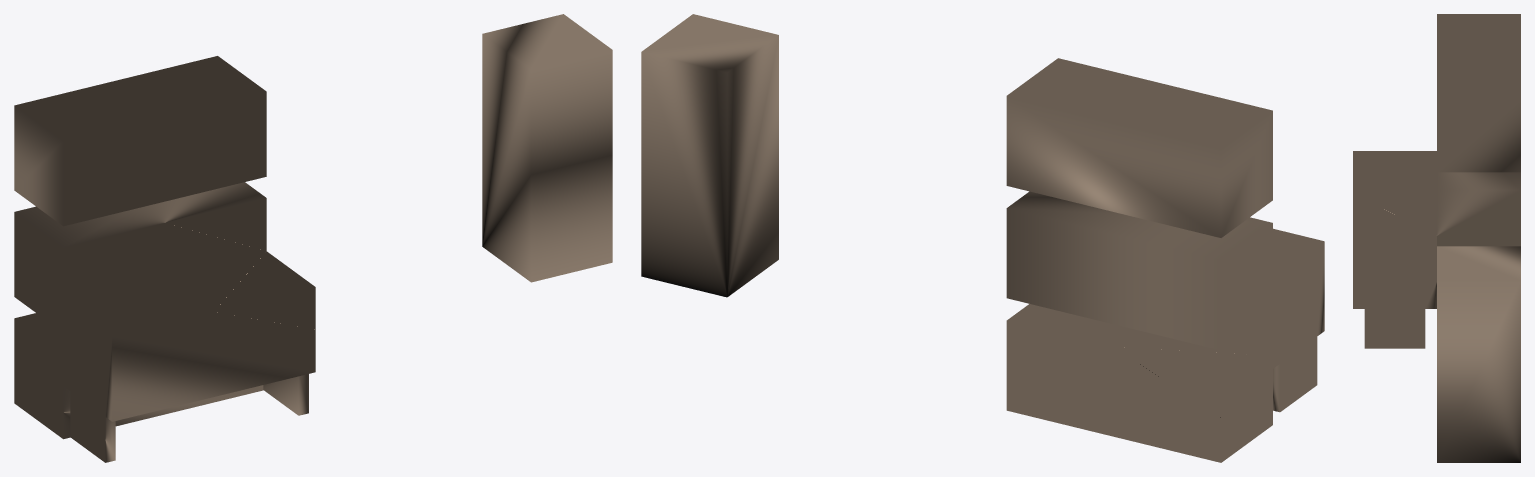
File: container.glb
3 views of the same model, side by side, from view 1: azimuth 30°, elevation 25°; view 2: azimuth 150°, elevation 25°; view 3: azimuth 270°, elevation 25° (orthographic). The views are drawn at different scales.
Parts seen in each view (by area): view 1: container; view 2: container; view 3: container.
Part boxes in pixels (bbox=[...]): container: bbox=[14, 14, 612, 462]; container: bbox=[641, 14, 1324, 462]; container: bbox=[1353, 14, 1520, 462].
Bounding box in the file's own units: 16.2 × 8.4 × 5.
